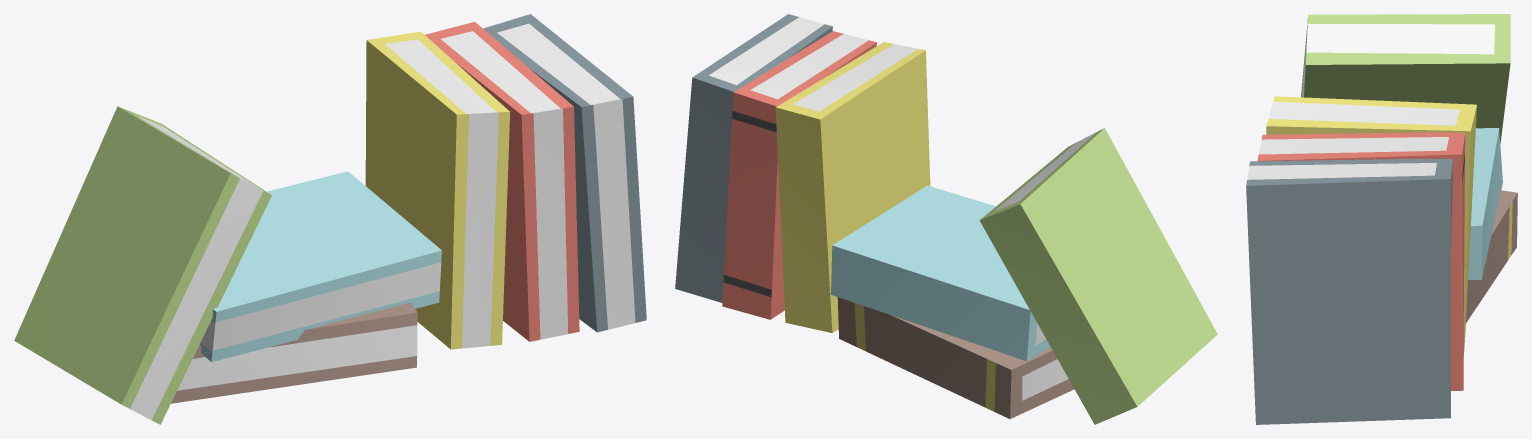
File: library.dae
3 renders of one model, left to right at view 1: azimuth 30°, elevation 25°; view 2: azimuth 150°, elevation 25°; view 3: azimuth 270°, elevation 25°, orthographic. The views are drawn at different scales.
Parts seen in each view (by area): view 1: mesh824283698; view 2: mesh824283698; view 3: mesh824283698.
Part boxes in pixels (x1=…): mesh824283698: x1=14, y1=14, x2=646, y2=424; mesh824283698: x1=675, y1=14, x2=1217, y2=424; mesh824283698: x1=1246, y1=14, x2=1517, y2=424.
Bounding box in the file's own units: 3.24 × 1.49 × 1.53.
